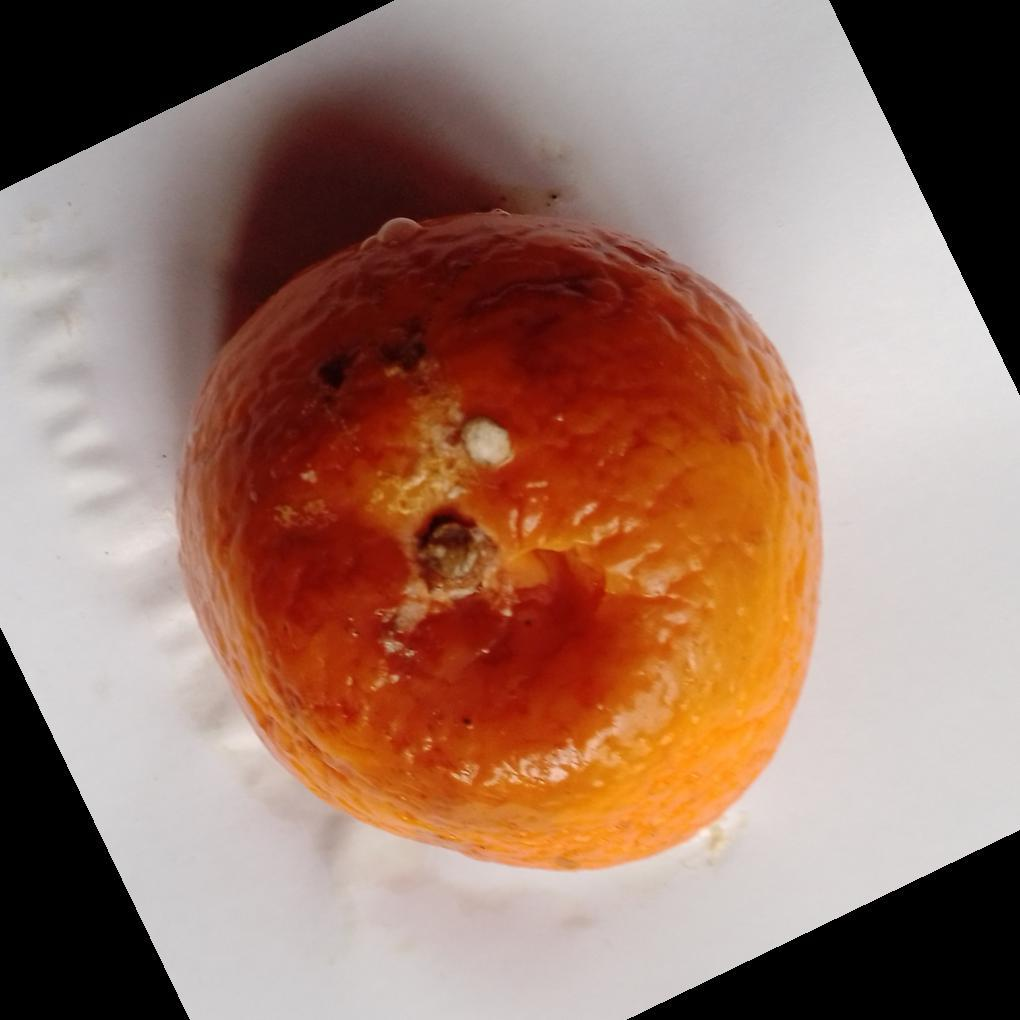FreshOrange: (173, 211, 825, 877)
